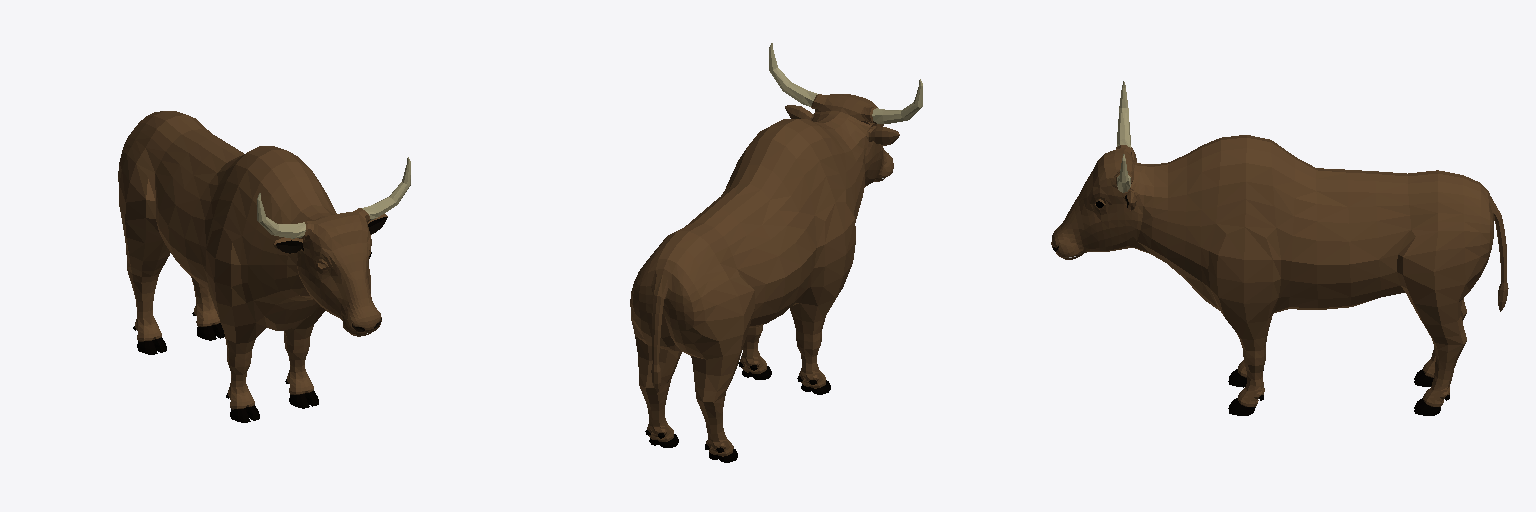
File: yak.obj
3 renders of one model, left to right at view 1: azimuth 30°, elevation 25°; view 2: azimuth 150°, elevation 25°; view 3: azimuth 270°, elevation 25°, orthographic.
Visible parts, largest first — view 1: yak; view 2: yak; view 3: yak.
Boxes of the visible parts, <box> form: yak: <box>118,111,410,422</box>; yak: <box>630,43,922,462</box>; yak: <box>1051,81,1508,415</box>.
Size of the model in its own units: 1.22 by 2.11 by 3.13.